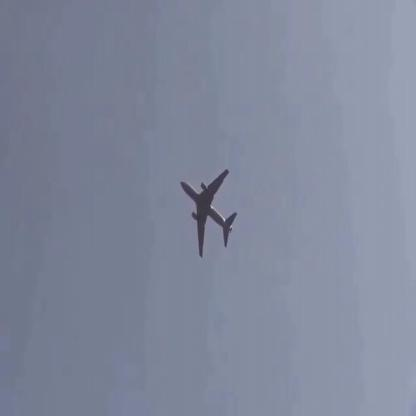CIV_Plane: (180, 169, 238, 256)
